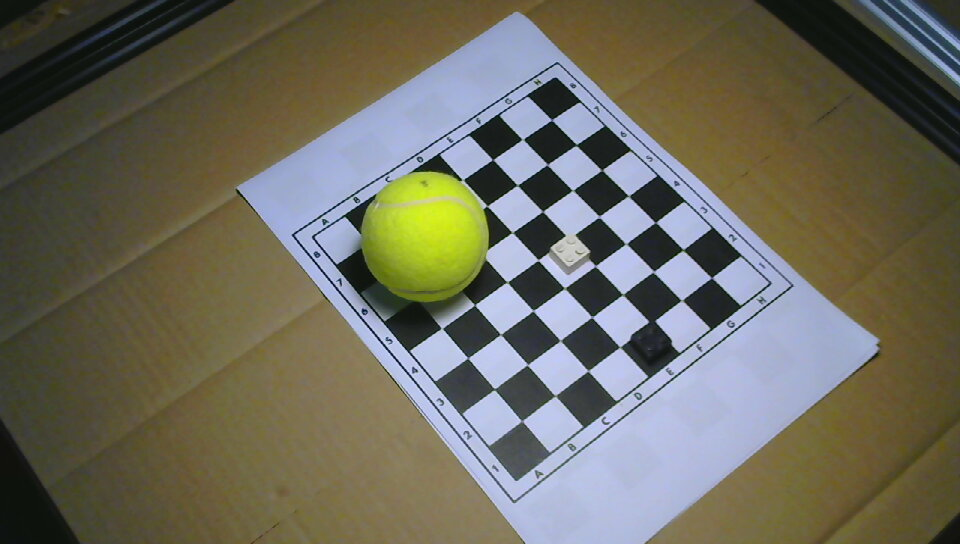bp: (631, 320, 673, 365)
wp: (548, 233, 591, 276)
